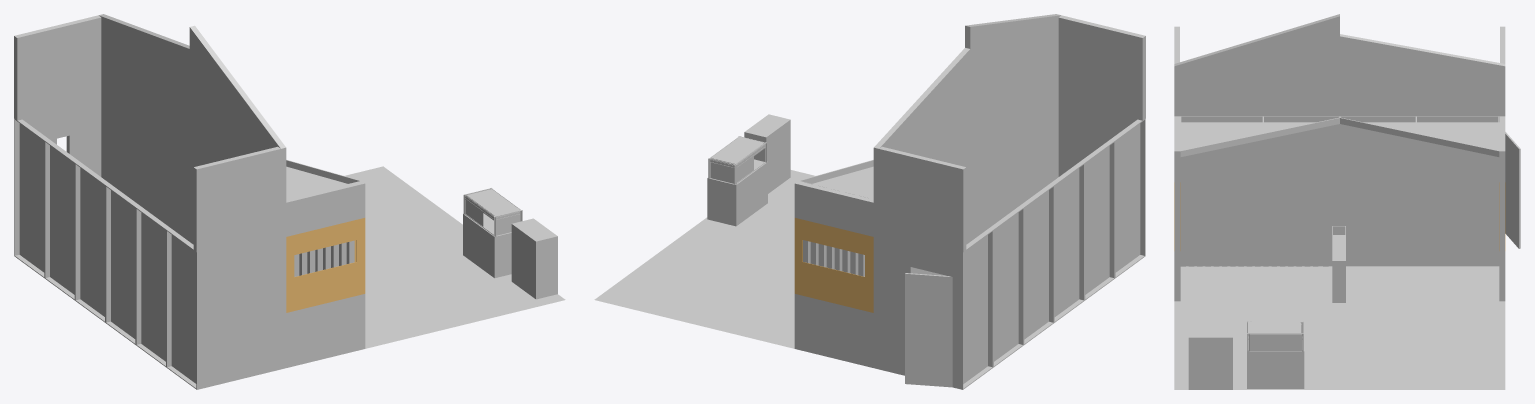
File: Food_ 14_PROGAST_CONST_PROXY.glb
3 renders of one model, left to right at view 1: azimuth 30°, elevation 25°; view 2: azimuth 150°, elevation 25°; view 3: azimuth 270°, elevation 25°, orthographic. The views are drawn at different scales.
Parts seen in each view (by area): view 1: Geom3D_Короб 2500×1000×94 (×6), Geom3D_Короб 2500×1000×100 (×5), Geom3D_Ковролан зеленый 7000х3000, Geom3D_Короб 1500×1100×100 (×2), Geom3D_ (×2), Geom3D_Ковролан красный 7000х3000, Geom3D_Короб 2500×500×100 (×2), Geom3D_Короб 1500×500×100 (×2), Geom3D_Короб 1500×1000×112, Geom3D_Короб 2500Х100Х1000Х2167, Geom3D_Короб 2100Х1000Х1900Х100, Geom3D_Короб 1900Х1000Х1700Х100 (+9 smaller); view 2: Geom3D_Короб 2500×1000×94 (×6), Geom3D_Ковролан красный 7000х3000, Geom3D_Короб 1500×1100×100 (×2), Geom3D_Короб 2500×1000×100 (×5), Geom3D_ (×2), Geom3D_Короб 2500×500×100 (×2), Geom3D_Дверь, Geom3D_Короб 1500×500×100 (×2), Geom3D_Короб 1500×1000×112, Geom3D_Короб 2500Х100Х1000Х2167, Geom3D_Ковролан зеленый 7000х3000, Geom3D_Короб 2167Х1833Х100Х1000 (+11 smaller); view 3: Geom3D_Короб 2500×1000×100 (×6), Geom3D_Ковролан красный 7000х3000, Geom3D_ЛДСП сонома 16 2700Х100 КАТАТЬ ПО 2700 С 2 СТ. РАСПИЛ (×19), Geom3D_Ковролан зеленый 7000х3000, Geom3D_Короб 2500Х100Х1000Х2167, Geom3D_Короб 2100Х1000Х1900Х100, Geom3D_Короб 2167Х1833Х100Х1000, Geom3D_Короб 1900Х1000Х1700Х100, Geom3D_Короб 1833х100х1000х1500, Geom3D_Короб 1700Х100Х1000Х1500, Geom3D_, Geom3D_Короб 1500Х120Х757Х1500 ПРАВЫЙ (+12 smaller).
Boxes of the visible parts, left/top/right/bottom form: Geom3D_Короб 2500×1000×94 (×6): left=14, top=119, right=201, bottom=389; Geom3D_Короб 2500×1000×100 (×5): left=101, top=100, right=286, bottom=388; Geom3D_Ковролан зеленый 7000х3000: left=365, top=236, right=565, bottom=348; Geom3D_Короб 1500×1100×100 (×2): left=14, top=22, right=254, bottom=251; Geom3D_ (×2): left=286, top=218, right=557, bottom=312; Geom3D_Ковролан красный 7000х3000: left=345, top=166, right=462, bottom=259; Geom3D_Короб 2500×500×100 (×2): left=75, top=100, right=280, bottom=375; Geom3D_Короб 1500×500×100 (×2): left=72, top=15, right=280, bottom=237; Geom3D_Короб 1500×1000×112: left=286, top=294, right=365, bottom=367; Geom3D_Короб 2500Х100Х1000Х2167: left=189, top=25, right=224, bottom=167; Geom3D_Короб 2100Х1000Х1900Х100: left=159, top=36, right=189, bottom=164; Geom3D_Короб 1900Х1000Х1700Х100: left=129, top=25, right=164, bottom=141; Geom3D_Короб 2500×1000×94 (×6): left=958, top=119, right=1145, bottom=389; Geom3D_Ковролан красный 7000х3000: left=594, top=233, right=794, bottom=348; Geom3D_Короб 1500×1100×100 (×2): left=905, top=22, right=1145, bottom=251; Geom3D_Короб 2500×1000×100 (×5): left=873, top=100, right=1136, bottom=369; Geom3D_ (×2): left=744, top=114, right=873, bottom=312; Geom3D_Короб 2500×500×100 (×2): left=879, top=100, right=1084, bottom=375; Geom3D_Дверь: left=905, top=273, right=952, bottom=387; Geom3D_Короб 1500×500×100 (×2): left=879, top=15, right=1087, bottom=237; Geom3D_Короб 1500×1000×112: left=794, top=294, right=873, bottom=367; Geom3D_Короб 2500Х100Х1000Х2167: left=965, top=21, right=1000, bottom=164; Geom3D_Ковролан зеленый 7000х3000: left=685, top=170, right=814, bottom=259; Geom3D_Короб 2167Х1833Х100Х1000: left=996, top=18, right=1030, bottom=141; Geom3D_Короб 2500×1000×100 (×6): left=1186, top=141, right=1499, bottom=266; Geom3D_Ковролан красный 7000х3000: left=1340, top=266, right=1505, bottom=389; Geom3D_ЛДСП сонома 16 2700Х100 КАТАТЬ ПО 2700 С 2 СТ. РАСПИЛ (×19): left=1180, top=124, right=1339, bottom=257; Geom3D_Ковролан зеленый 7000х3000: left=1174, top=266, right=1339, bottom=389; Geom3D_Короб 2500Х100Х1000Х2167: left=1284, top=14, right=1339, bottom=141; Geom3D_Короб 2100Х1000Х1900Х100: left=1340, top=34, right=1394, bottom=141; Geom3D_Короб 2167Х1833Х100Х1000: left=1229, top=30, right=1284, bottom=141; Geom3D_Короб 1900Х1000Х1700Х100: left=1395, top=44, right=1450, bottom=141; Geom3D_Короб 1833х100х1000х1500: left=1174, top=47, right=1229, bottom=116; Geom3D_Короб 1700Х100Х1000Х1500: left=1450, top=54, right=1505, bottom=116; Geom3D_: left=1188, top=327, right=1232, bottom=389; Geom3D_Короб 1500Х120Х757Х1500 ПРАВЫЙ: left=1416, top=116, right=1499, bottom=156.
Bounding box in the file's own units: 7.01 × 5.01 × 6.28.
